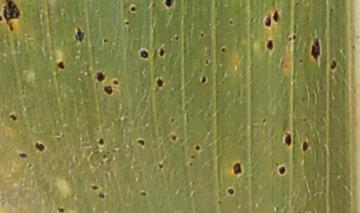tarspot: (2, 1, 20, 31), (310, 36, 321, 63), (74, 26, 84, 42), (34, 140, 45, 153), (232, 160, 241, 175), (102, 83, 113, 95), (263, 13, 272, 27), (283, 132, 292, 146), (94, 71, 106, 81), (272, 7, 280, 22), (265, 38, 274, 51), (329, 57, 337, 71), (139, 48, 149, 58), (155, 77, 164, 88), (17, 151, 29, 159), (301, 139, 309, 151), (9, 112, 18, 122), (97, 136, 106, 146), (136, 137, 146, 146), (199, 74, 208, 84), (277, 165, 286, 175), (157, 46, 165, 57), (57, 60, 65, 70), (97, 191, 106, 199), (90, 183, 99, 191), (163, 1, 175, 7), (290, 32, 298, 41), (226, 186, 234, 195), (111, 78, 119, 86), (129, 5, 137, 13), (193, 143, 201, 151), (227, 17, 234, 26), (101, 36, 108, 44), (123, 18, 130, 26), (350, 42, 357, 50), (286, 32, 291, 42), (25, 161, 32, 168), (101, 152, 108, 159), (157, 162, 164, 169), (170, 134, 177, 141), (220, 46, 227, 53), (297, 56, 304, 63), (301, 115, 308, 122), (216, 198, 223, 205), (273, 161, 280, 168), (25, 31, 31, 39), (139, 190, 147, 196), (203, 58, 209, 66), (300, 94, 306, 102), (261, 116, 267, 124), (57, 208, 66, 213), (199, 30, 204, 39), (190, 153, 196, 160), (169, 116, 175, 123), (173, 34, 179, 41), (294, 1, 301, 7), (188, 160, 193, 167), (1, 14, 4, 22), (356, 34, 360, 39)
